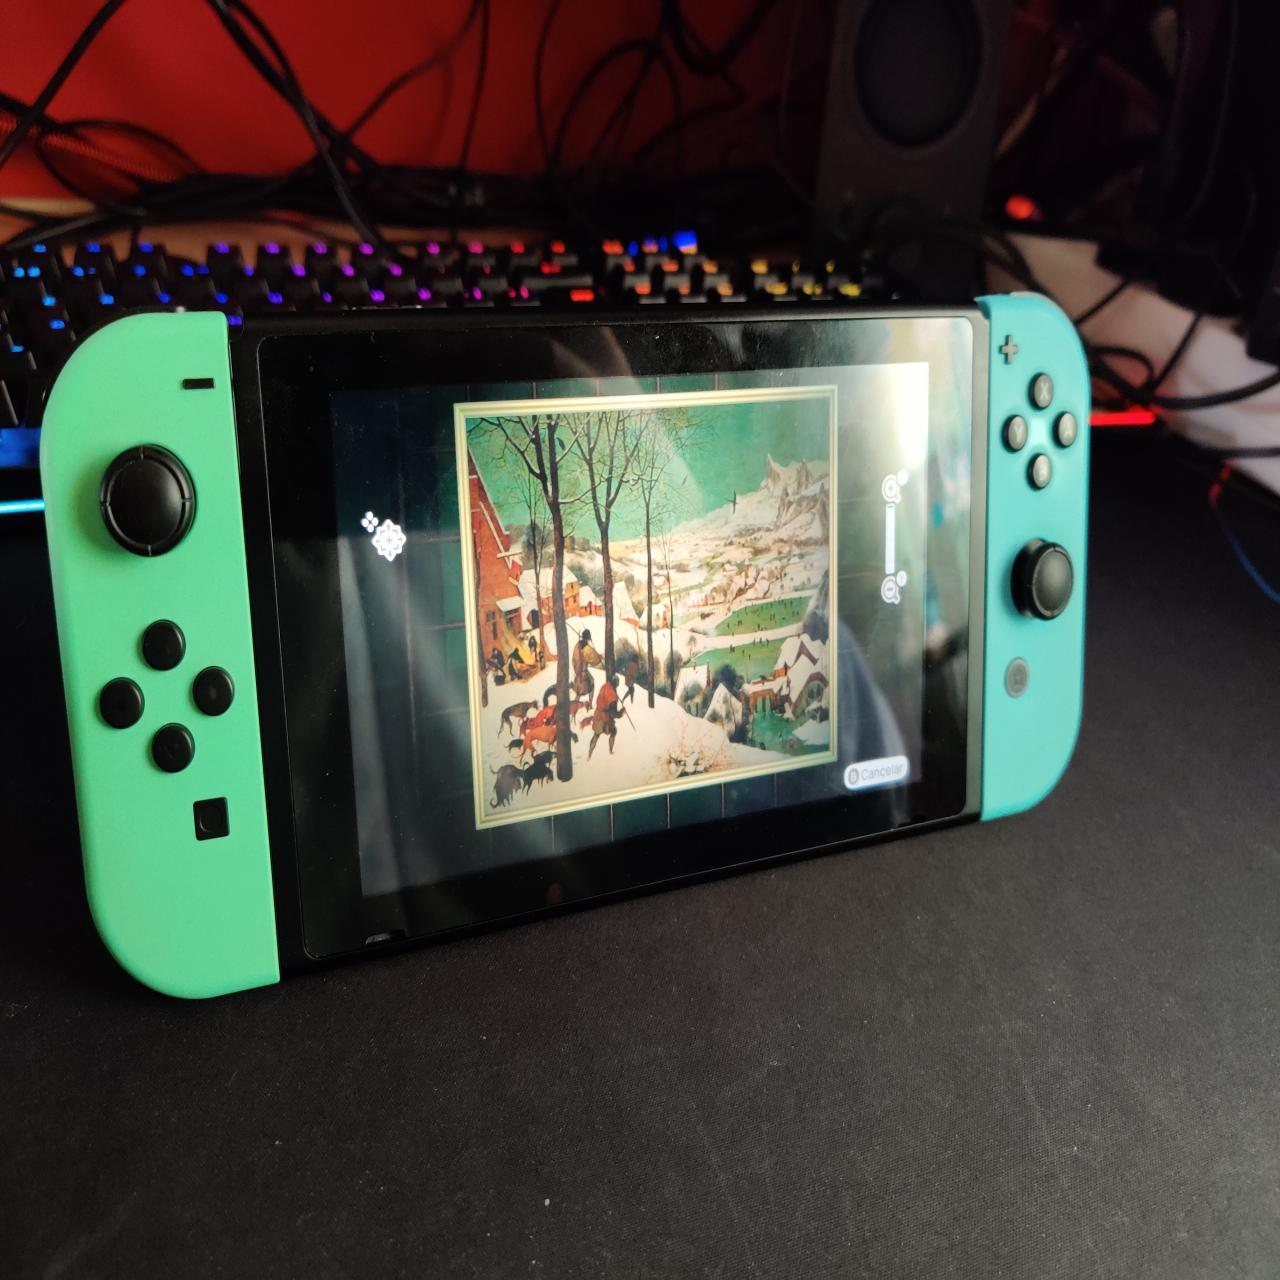HunterSnow: (462, 400, 843, 825)
